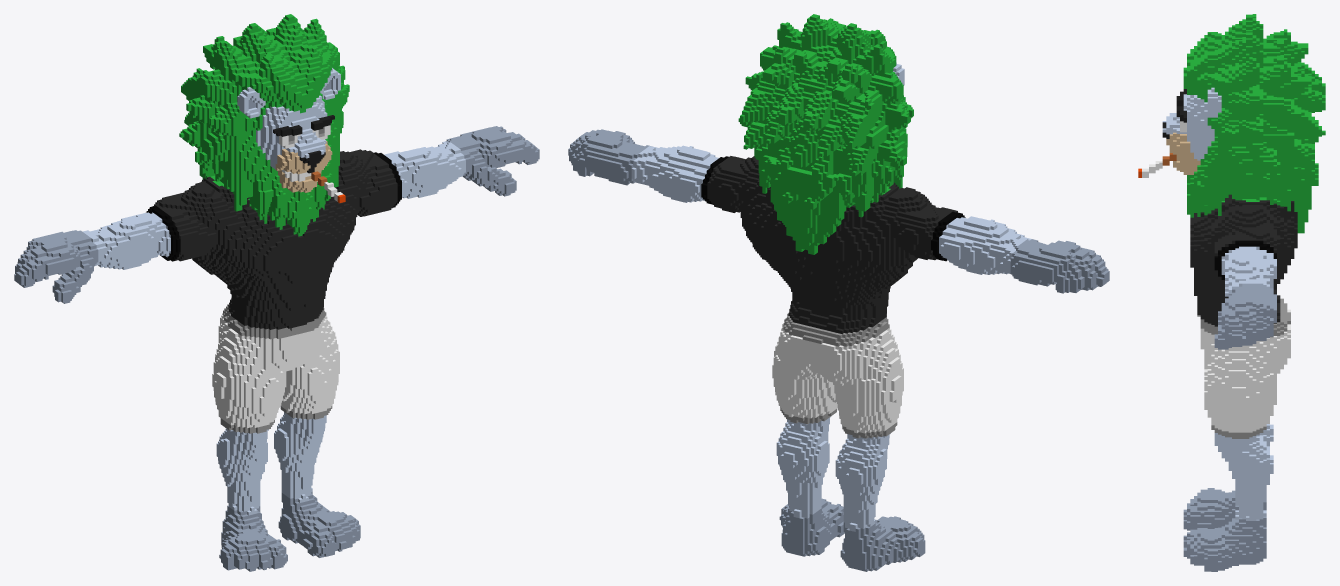
The model's file is 116-YDlmgmbm.glb.
The picture shows the model from 3 angles, left to right: view 1: azimuth 30°, elevation 25°; view 2: azimuth 150°, elevation 25°; view 3: azimuth 270°, elevation 25°; orthographic projection. The views are drawn at different scales.
Visible parts, largest first — view 1: cigarette; view 2: cigarette; view 3: cigarette.
Boxes of the visible parts, bbox=[...] form: cigarette: bbox=[14, 14, 539, 571]; cigarette: bbox=[568, 14, 1109, 571]; cigarette: bbox=[1138, 14, 1325, 571].
Bounding box in the file's own units: 17.2 × 16.5 × 5.4.
5 materials, 5 textured.
